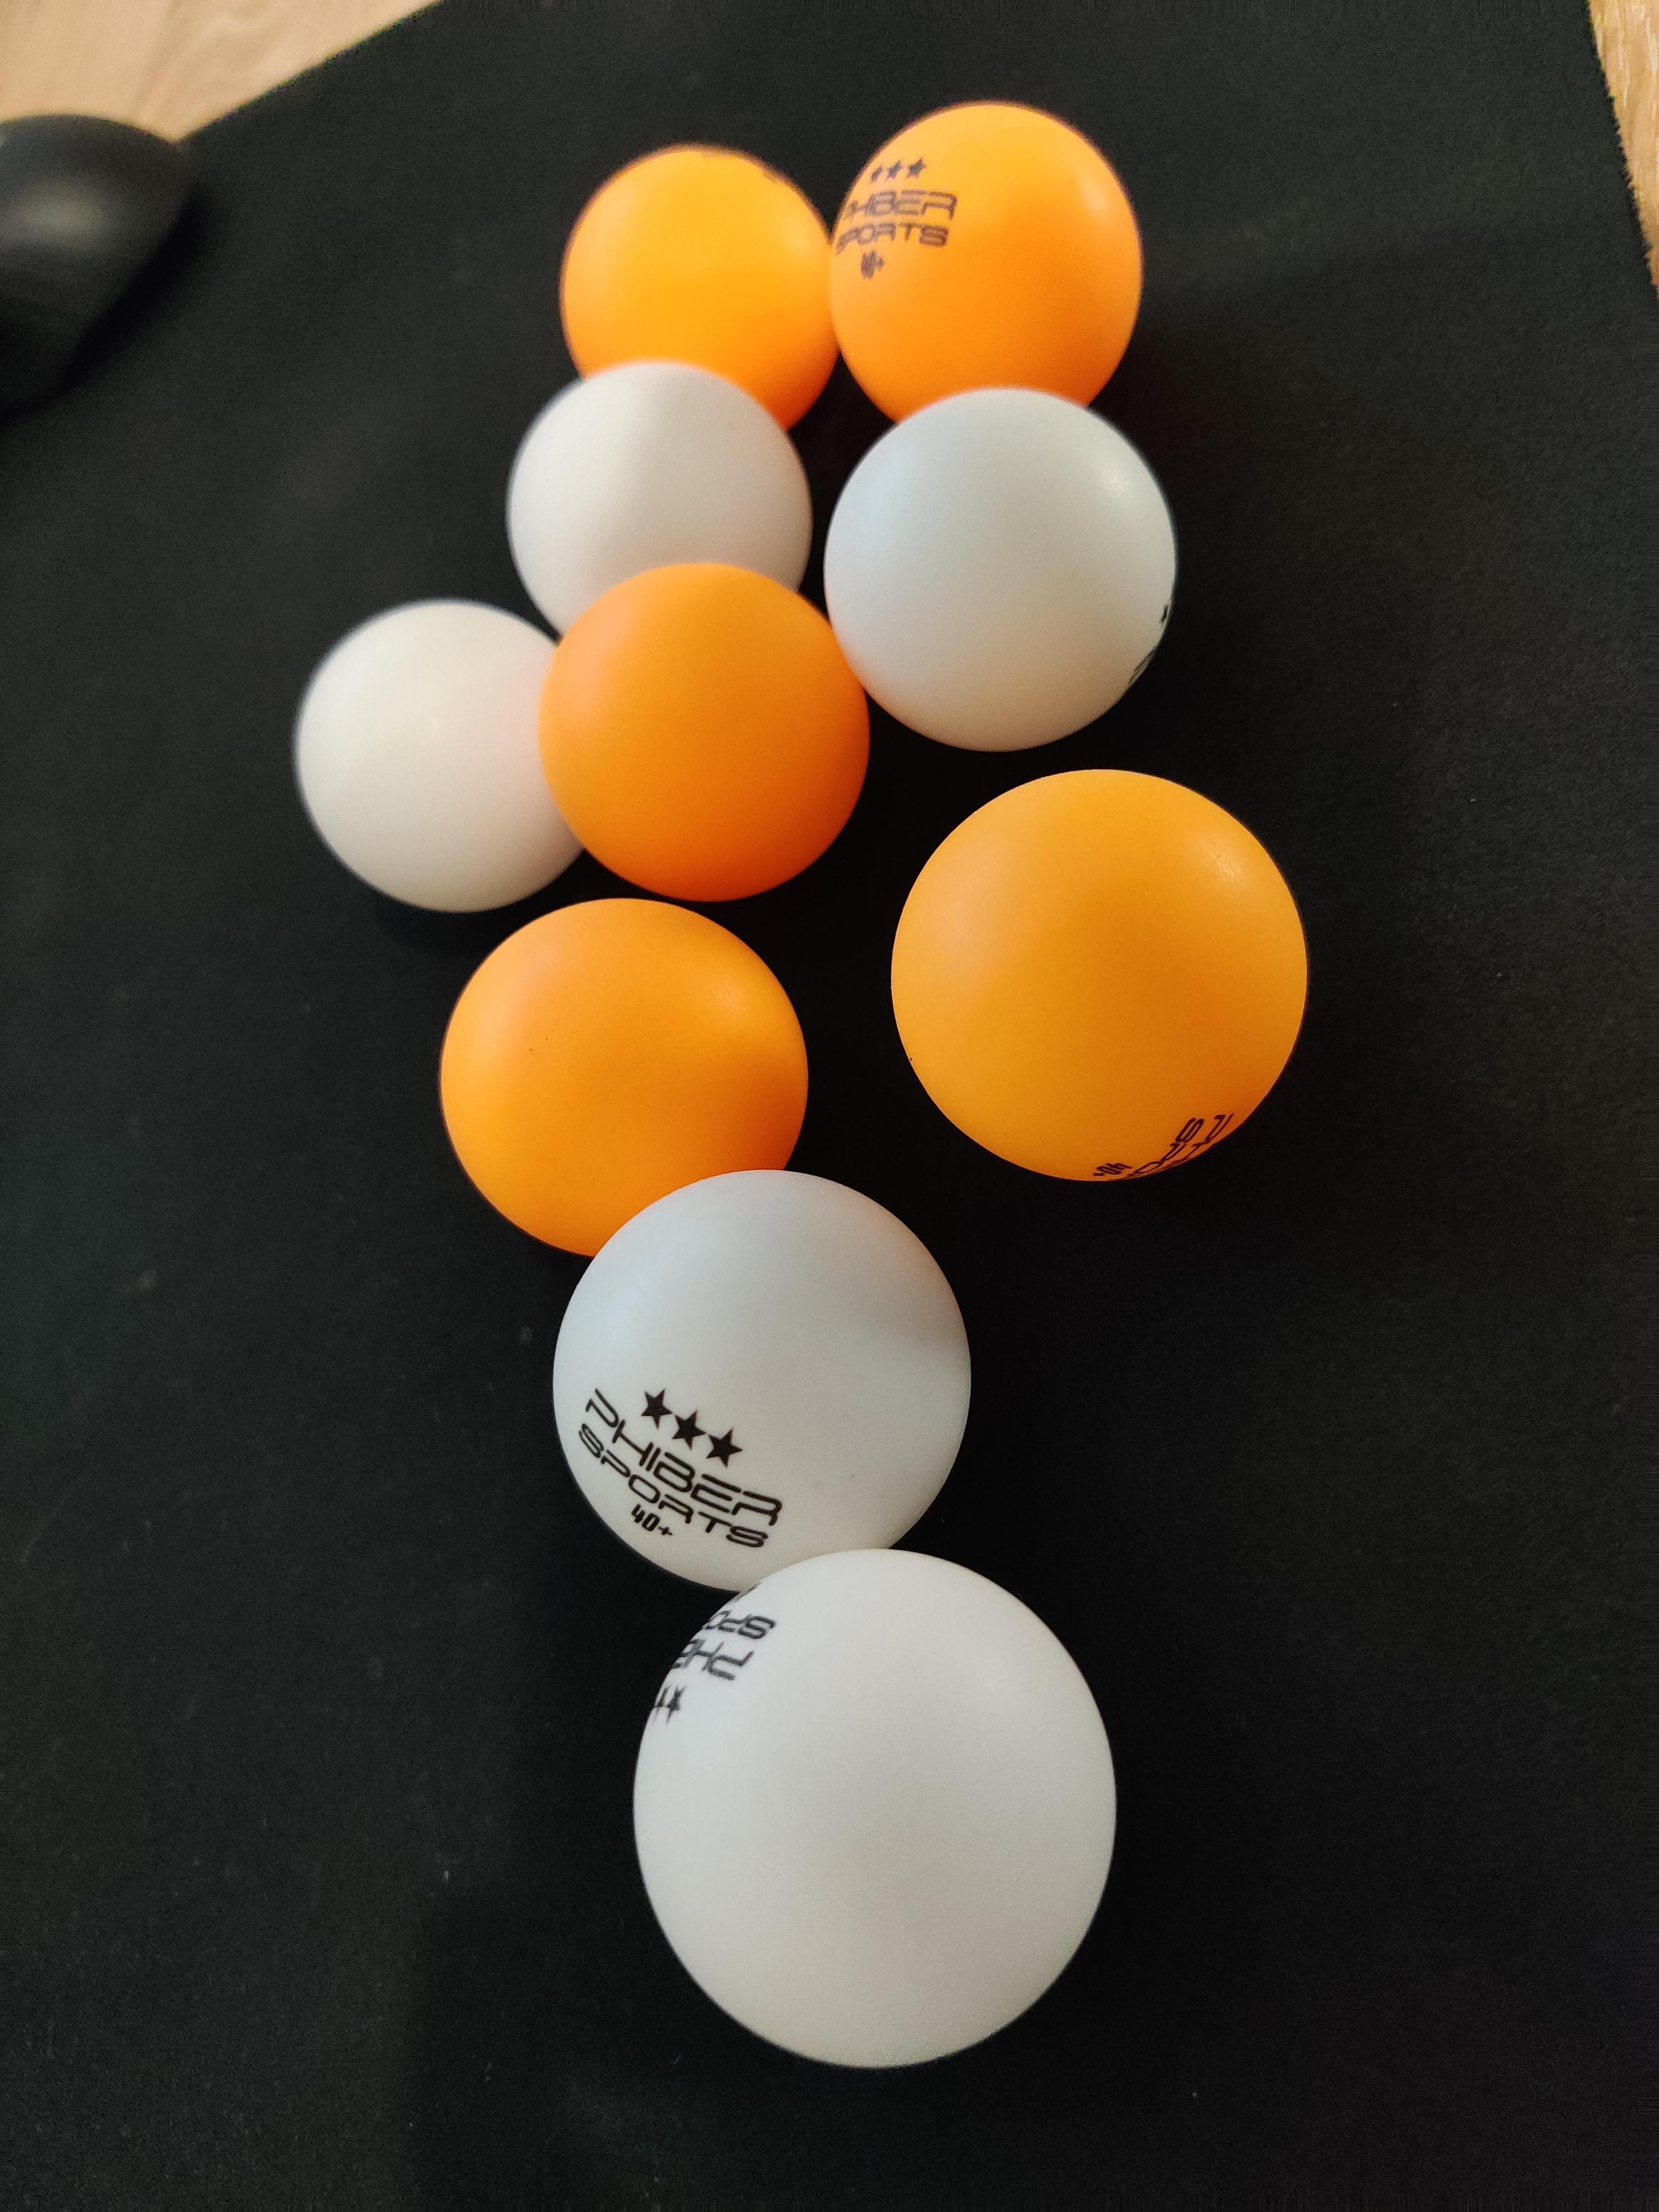orange: (889, 763, 1316, 1193), (432, 899, 816, 1266), (535, 563, 873, 902), (824, 94, 1148, 432), (559, 141, 840, 449)
white: (629, 1543, 1124, 2071), (545, 1158, 979, 1594), (828, 385, 1185, 754), (291, 592, 591, 918), (511, 357, 824, 646)
